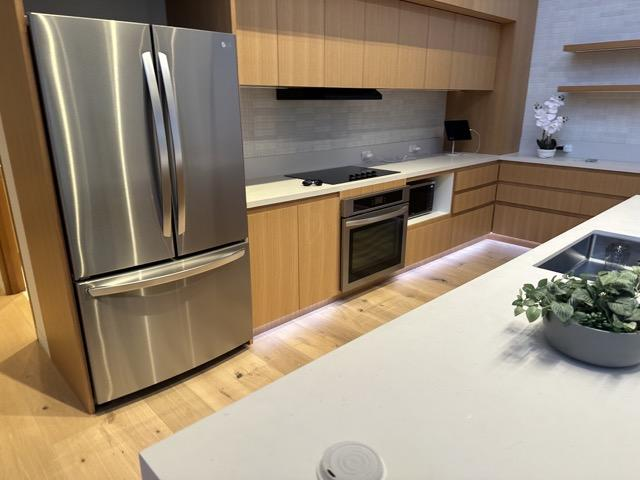Sunglasses: (301, 178, 324, 188)
